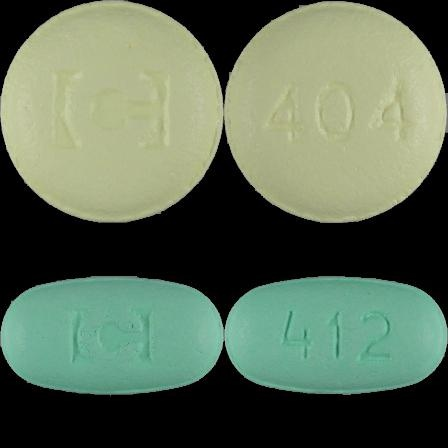63459-404: (0, 0, 224, 224)
